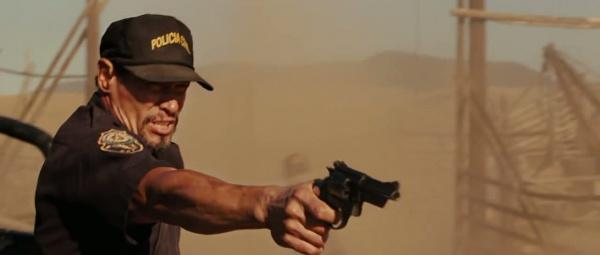Gun: (311, 160, 400, 229)
